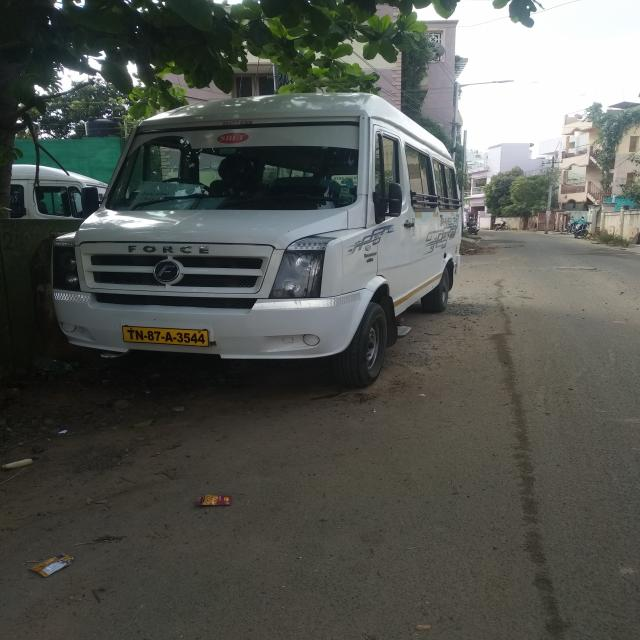Bus: (41, 86, 468, 401)
